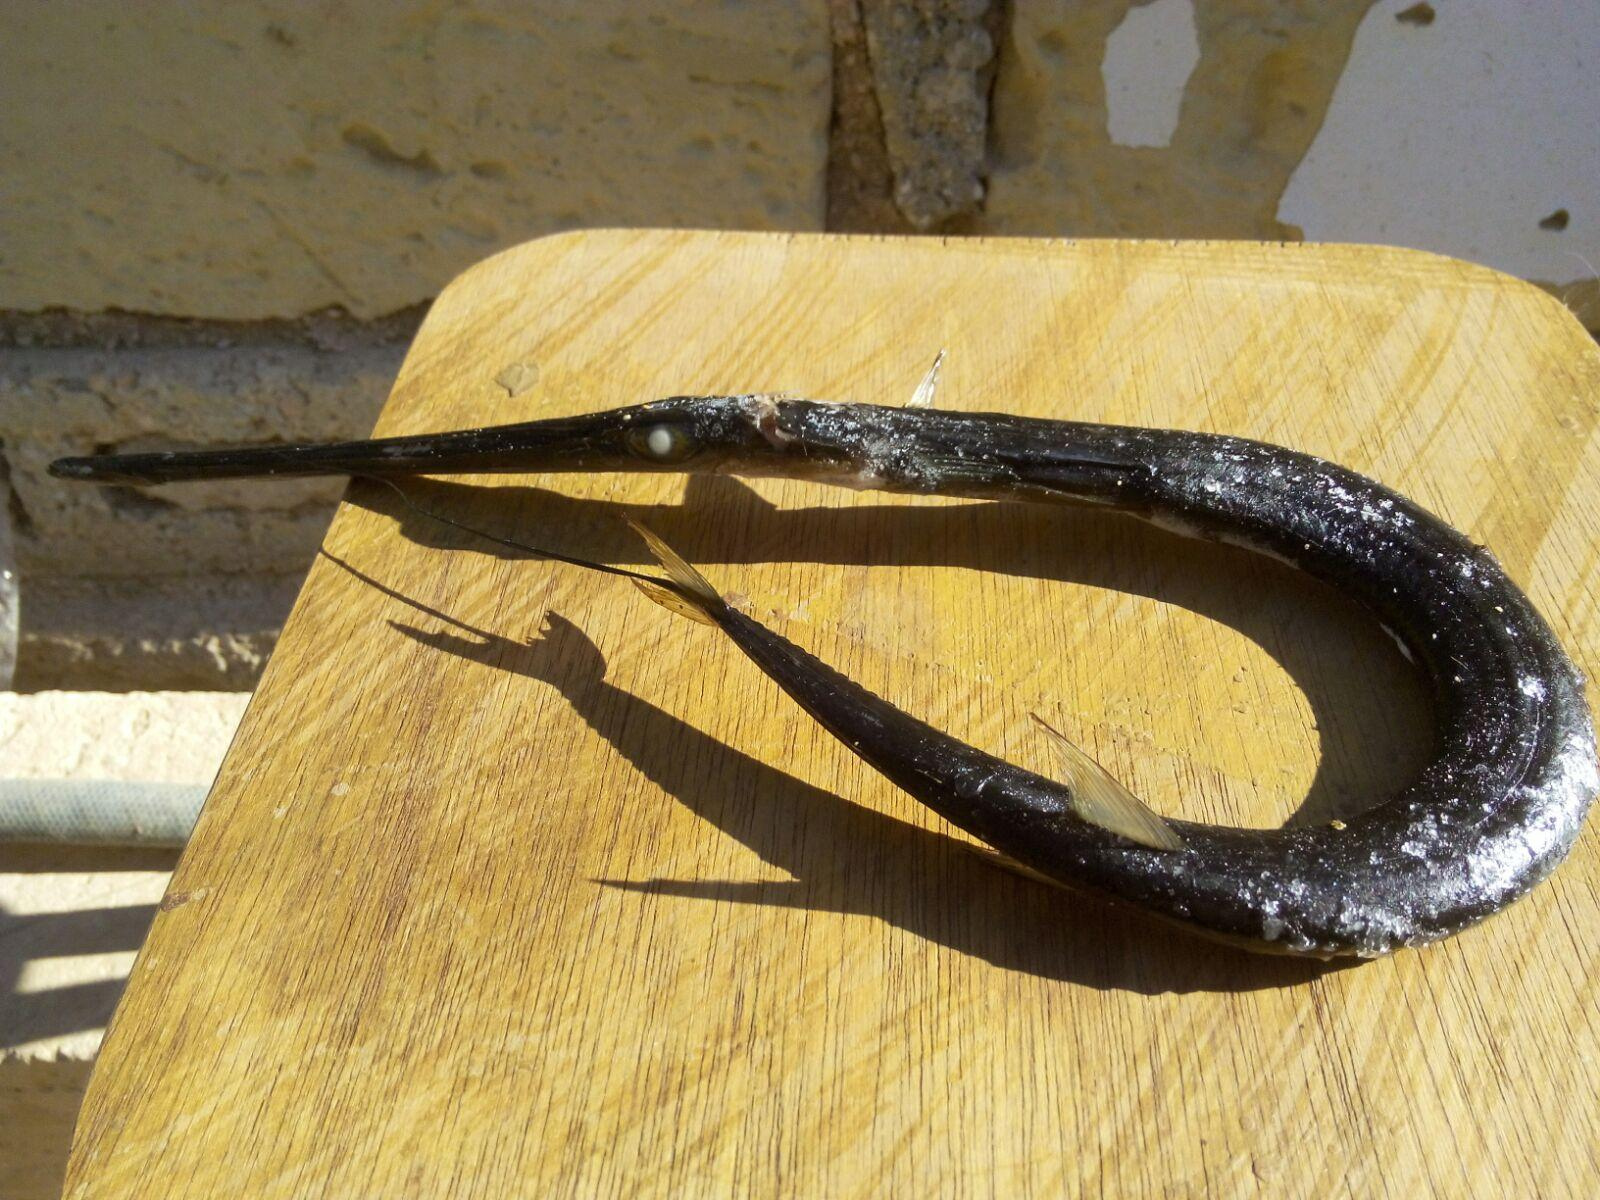Fistularia commersonii: (47, 359, 1596, 965)
